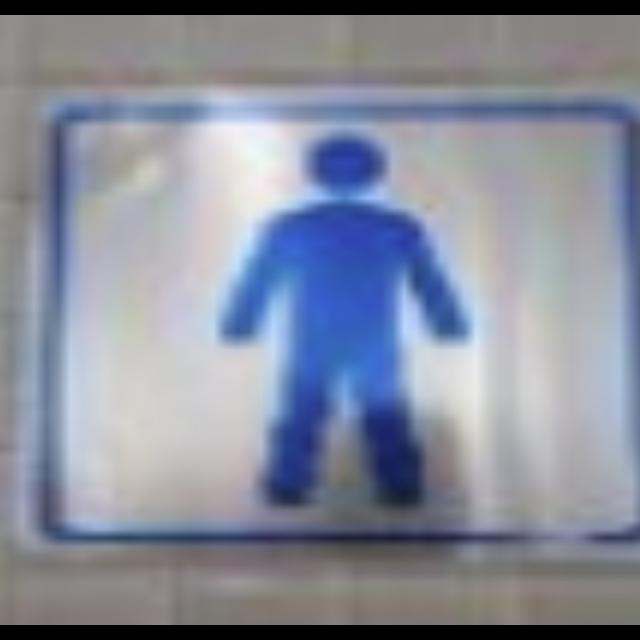wc nam: (45, 91, 639, 543)
